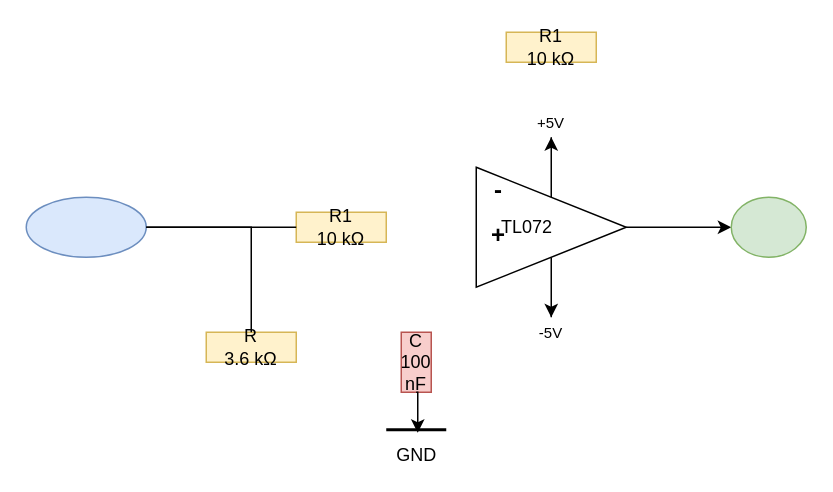
Some shapes in this 833 by 492 pixel diagram are drawn without their labels. Here are the shapes that lost their labels. From the top down, the box of each, then its label:
(25, 196, 146, 257): Vi (iPod/PC)
(730, 196, 806, 257): Vo
